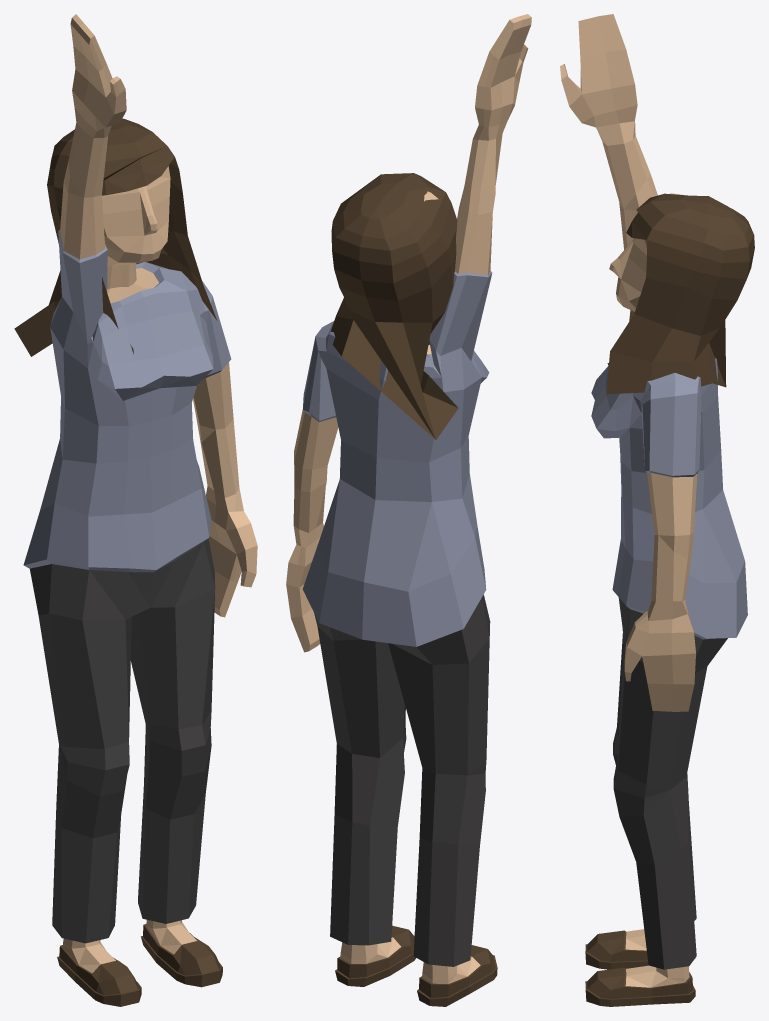
Rendered from Female_Crowd_RightArmUp.glb.
The picture shows the model from 3 angles, left to right: view 1: azimuth 30°, elevation 25°; view 2: azimuth 150°, elevation 25°; view 3: azimuth 270°, elevation 25°; orthographic projection. The views are drawn at different scales.
Visible parts, largest first — view 1: Female_Crowd_RightArmUp; view 2: Female_Crowd_RightArmUp; view 3: Female_Crowd_RightArmUp.
Boxes of the visible parts, x1,y1,x2,y2 form: Female_Crowd_RightArmUp: (14, 14, 257, 1006); Female_Crowd_RightArmUp: (286, 14, 531, 1006); Female_Crowd_RightArmUp: (560, 14, 754, 1006).
Size of the model in its own units: 0.4055 by 1.98 by 0.3762.
